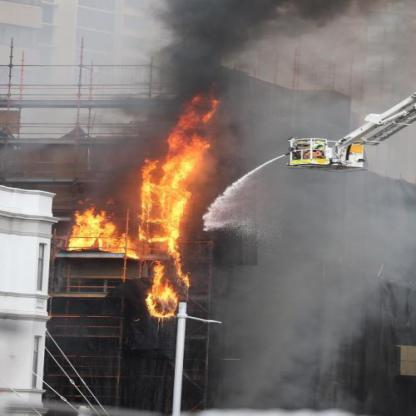fire: (64, 86, 208, 316)
